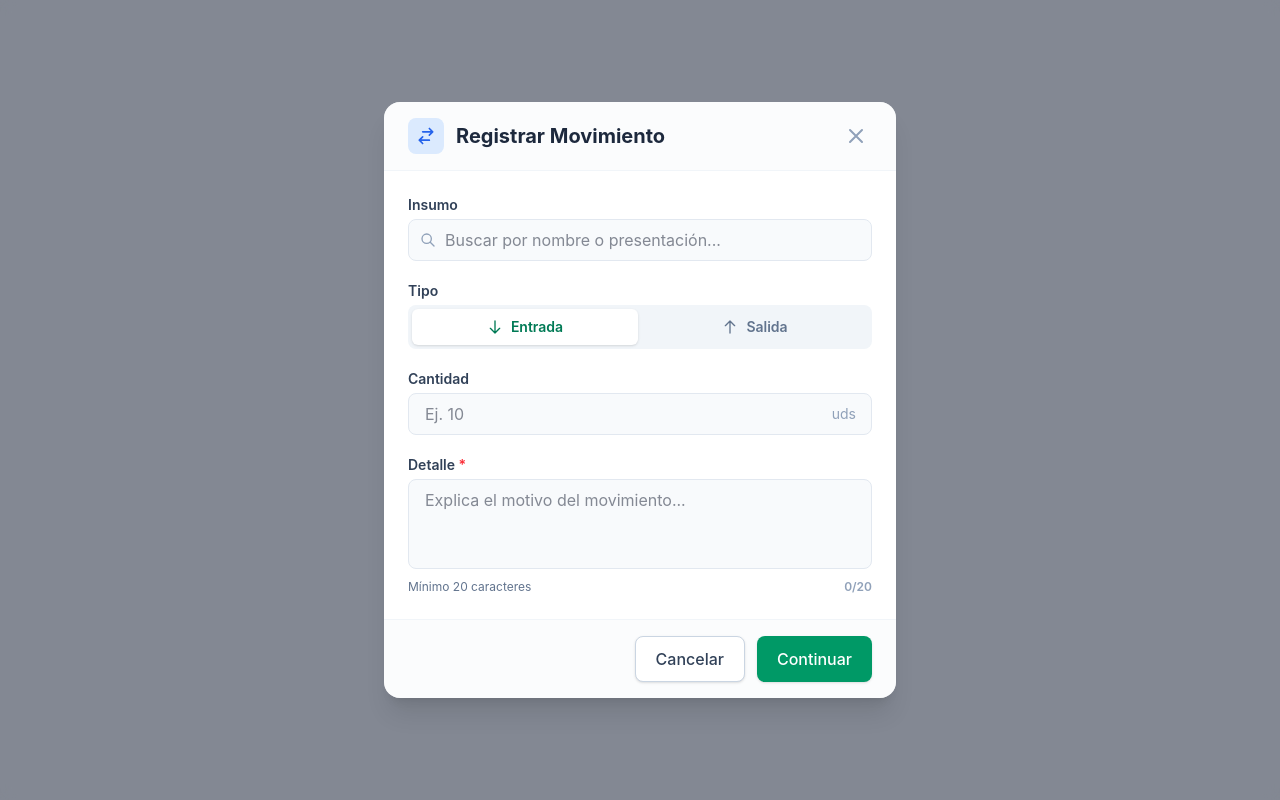
Scenario: MovimientoModal (registro de entradas y salidas) › muestra la identidad y el stock del insumo seleccionado
Type "gasa" into the dropdown at (640, 240), box [408,219,872,261]
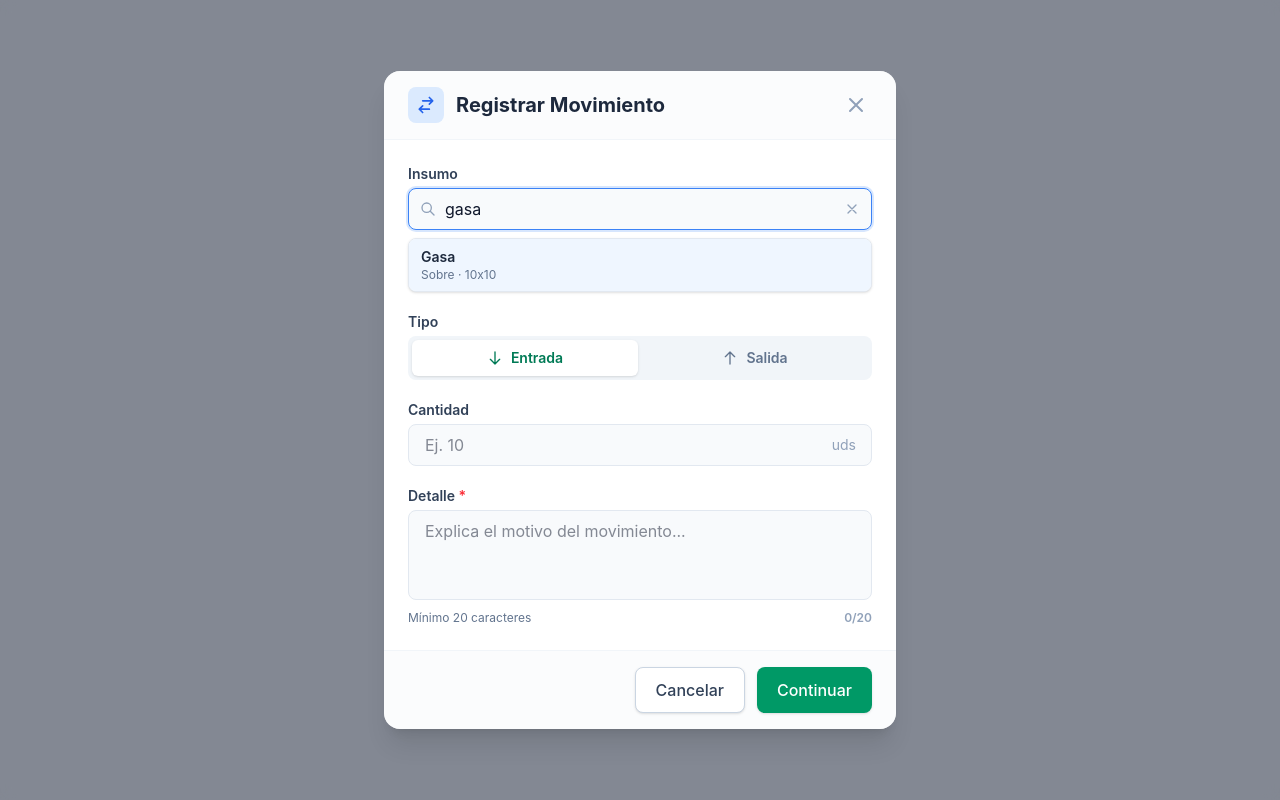
Click the option "Gasa Sobre · 10x10" at (438, 256), box [409,239,871,291]
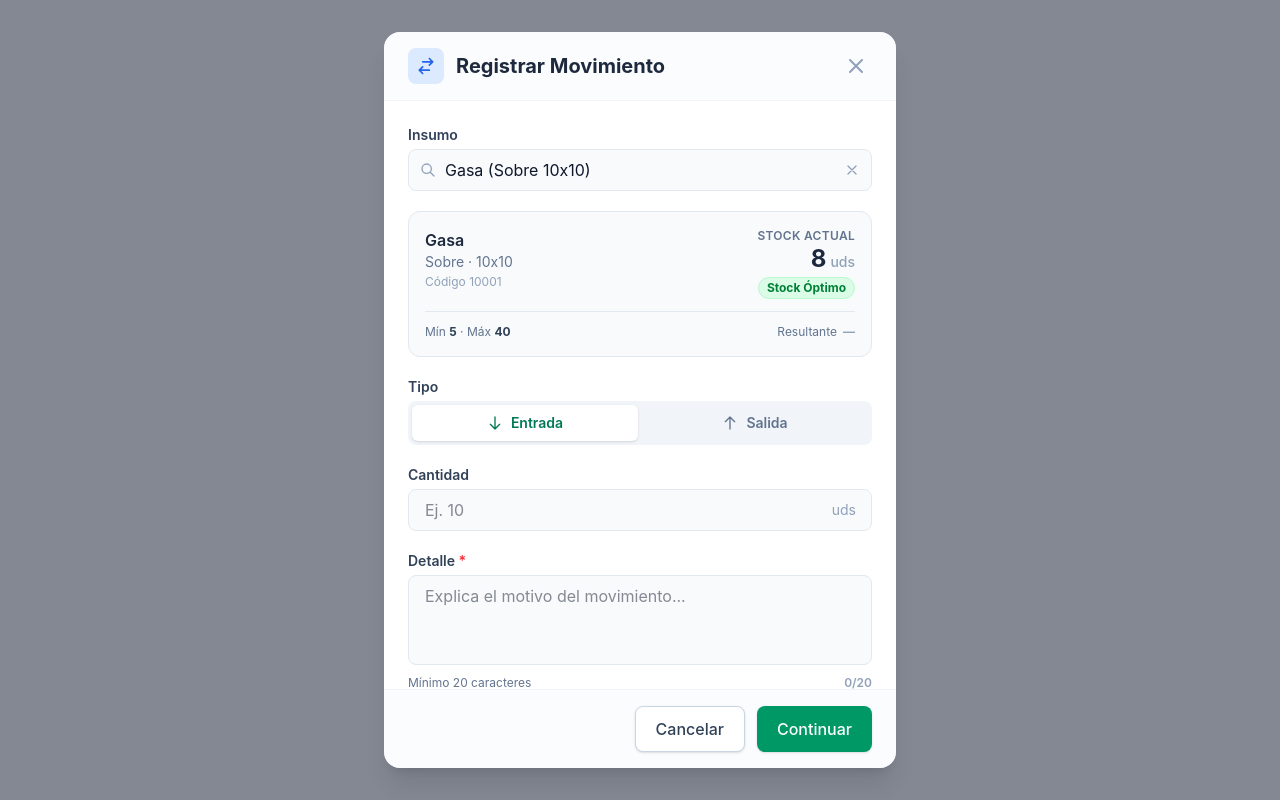
Expected: the text "Gasa" is shown, [425,230,464,250]
Expected: the text "Sobre · 10x10" is shown, [425,252,513,272]
Expected: the text "Código 10001" is shown, [425,274,513,290]
